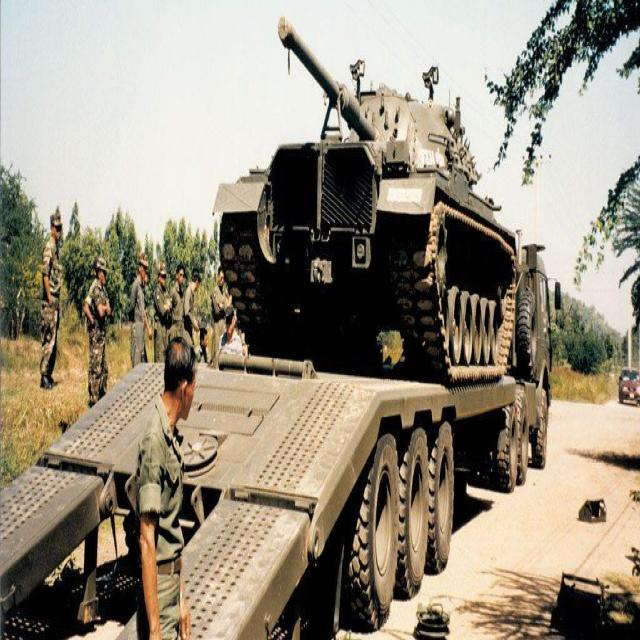Tanks: (200, 11, 522, 381)
